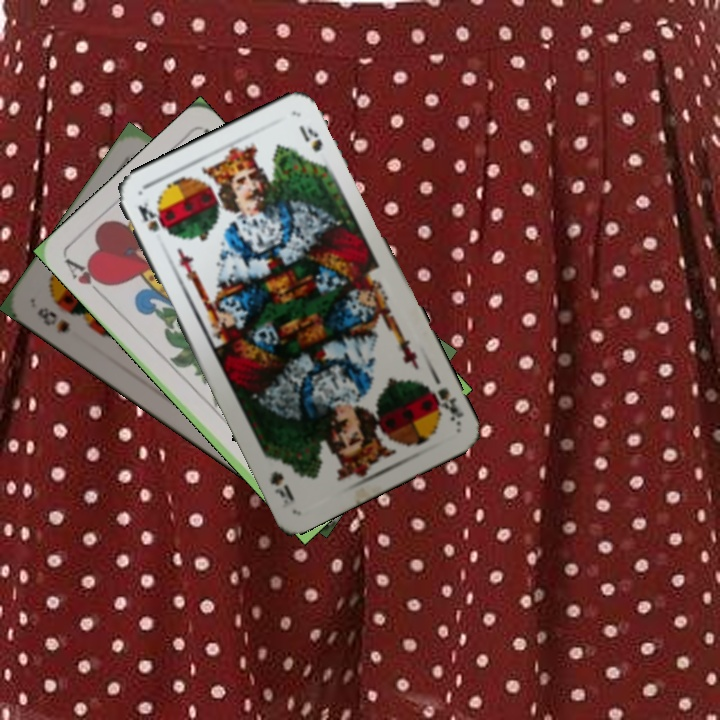HA: (60, 254, 112, 300)
S8: (33, 303, 73, 336)
SK: (422, 381, 466, 427), (134, 198, 167, 235)
